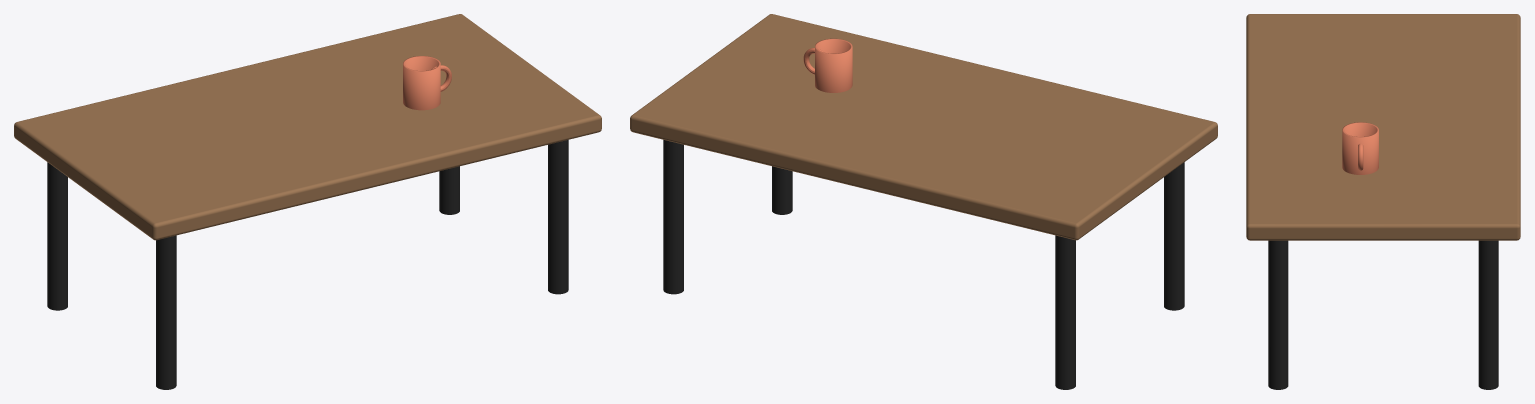
The model's file is exemple-table.glb.
The picture shows the model from 3 angles, left to right: view 1: azimuth 30°, elevation 25°; view 2: azimuth 150°, elevation 25°; view 3: azimuth 270°, elevation 25°; orthographic projection. The views are drawn at different scales.
Visible parts, largest first — view 1: Plateau, Pied.2, Pied.4, Pied.3, Tasse, Pied.1; view 2: Plateau, Pied.1, Pied.3, Pied.4, Tasse, Pied.2; view 3: Plateau, Pied.1, Pied.2, Tasse.
Boxes of the visible parts, bbox=[...] form: Plateau: bbox=[14, 14, 601, 240]; Pied.2: bbox=[548, 140, 568, 294]; Pied.4: bbox=[156, 235, 176, 389]; Pied.3: bbox=[47, 162, 67, 310]; Tasse: bbox=[403, 56, 440, 110]; Pied.1: bbox=[439, 166, 459, 214]; Plateau: bbox=[630, 14, 1217, 240]; Pied.1: bbox=[663, 140, 683, 294]; Pied.3: bbox=[1055, 235, 1075, 389]; Pied.4: bbox=[1164, 162, 1184, 310]; Tasse: bbox=[815, 38, 852, 92]; Pied.2: bbox=[772, 166, 792, 214]; Plateau: bbox=[1246, 14, 1520, 240]; Pied.1: bbox=[1478, 240, 1498, 389]; Pied.2: bbox=[1268, 240, 1288, 389]; Tasse: bbox=[1342, 122, 1378, 174].
Size of the model in its own units: 1.1 by 0.51 by 0.6.
